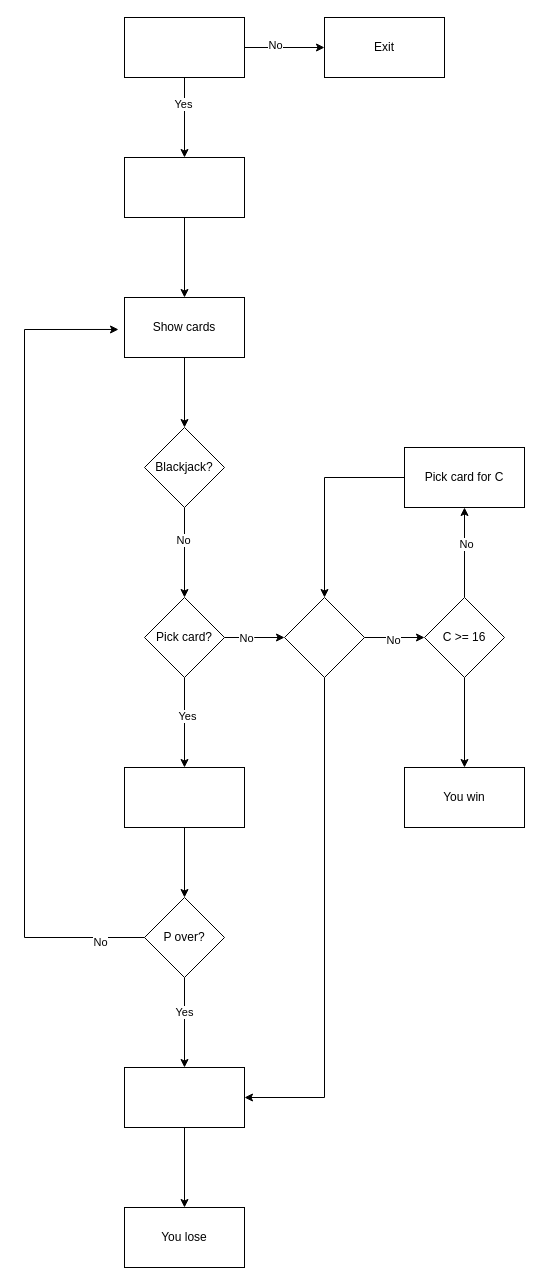
This 542x1285 diagram has some shape labels left out. Here are the shapes that lost their labels. From the top down, the box of each, then its label:
(124, 16, 244, 78): Play game?
(124, 156, 244, 218): Pick 2 cards for C and P
(284, 596, 364, 678): C higher P
(124, 766, 244, 828): Pick card for P
(124, 1066, 244, 1128): Show C cards
